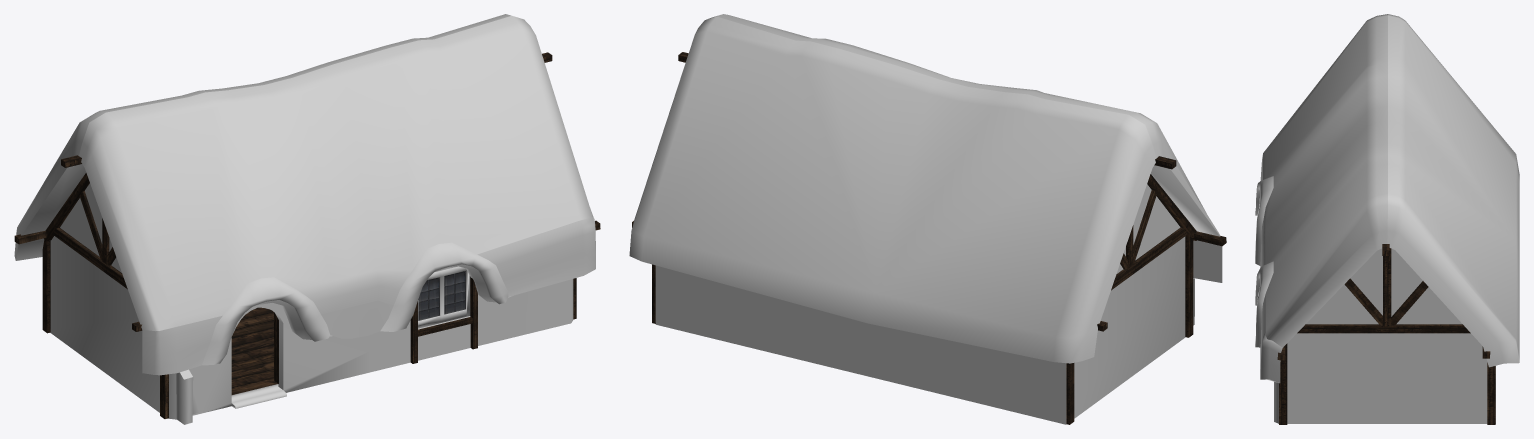
Rendered from VillageBuildingB.dae.
3 renders of one model, left to right at view 1: azimuth 30°, elevation 25°; view 2: azimuth 150°, elevation 25°; view 3: azimuth 270°, elevation 25°, orthographic. The views are drawn at different scales.
Parts seen in each view (by area): view 1: meshU3D; view 2: meshU3D; view 3: meshU3D.
Part boxes in pixels (left/top/right/bottom): meshU3D: left=14, top=14, right=600, bottom=424; meshU3D: left=629, top=14, right=1226, bottom=424; meshU3D: left=1255, top=14, right=1519, bottom=424.
Size of the model in its own units: 431 by 221 by 228.
